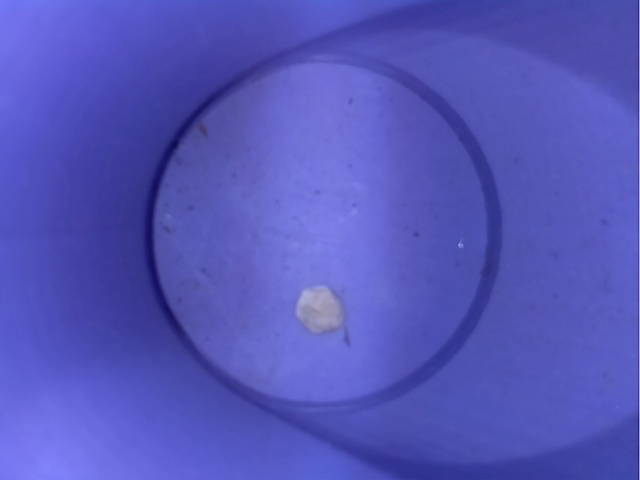caillou: (286, 277, 359, 350)
